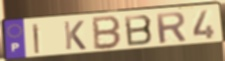4: (191, 9, 217, 40)
B: (92, 15, 123, 52), (123, 14, 155, 48)
I: (31, 22, 41, 55)
K: (62, 20, 88, 51)
R: (154, 10, 189, 45)
